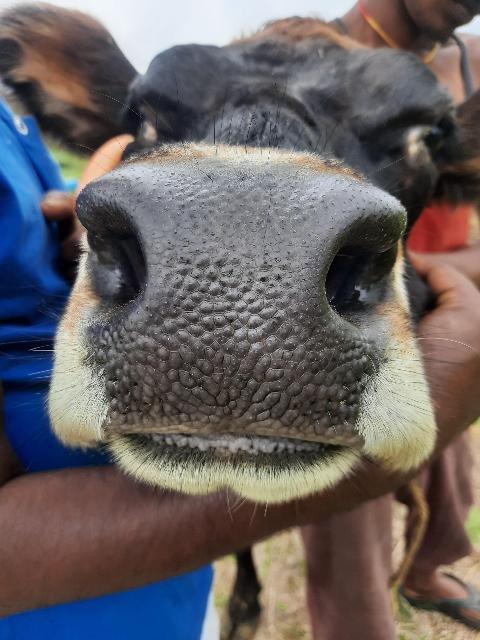Muzzle: (117, 178, 339, 436)
